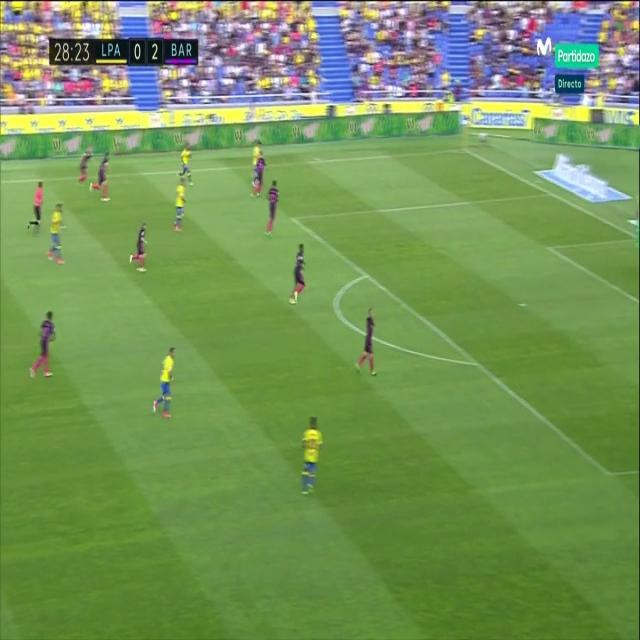Player: (24, 309, 58, 382), (297, 414, 325, 499), (152, 344, 179, 422), (353, 306, 380, 382), (286, 239, 309, 308), (46, 200, 68, 268), (262, 177, 281, 240), (89, 152, 111, 204), (130, 219, 150, 275), (172, 177, 190, 234), (176, 141, 196, 186), (250, 150, 266, 203), (76, 145, 93, 188), (252, 139, 264, 173)
Referee: (26, 177, 46, 236)
